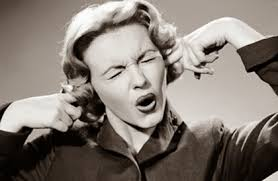person: (51, 8, 214, 163)
